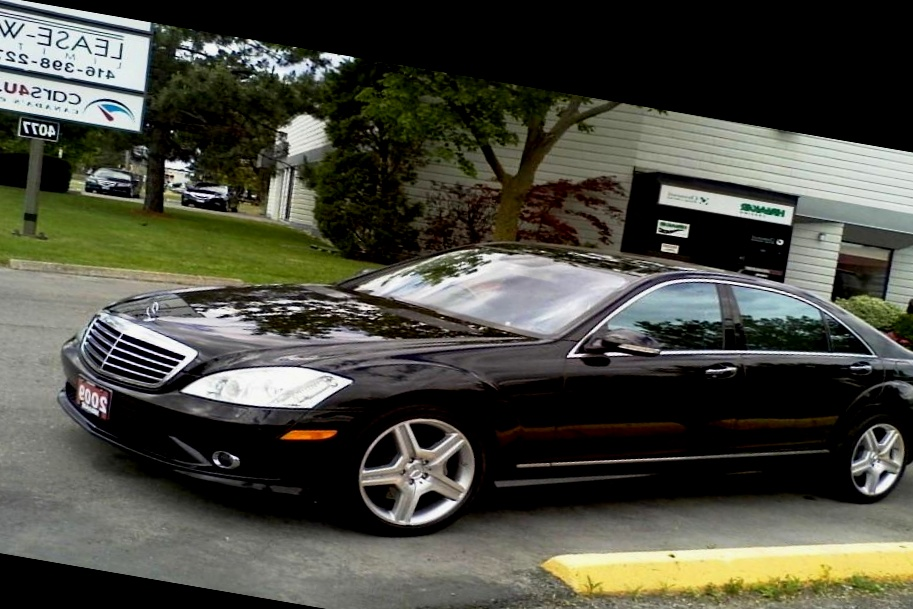car: (18, 149, 913, 609)
